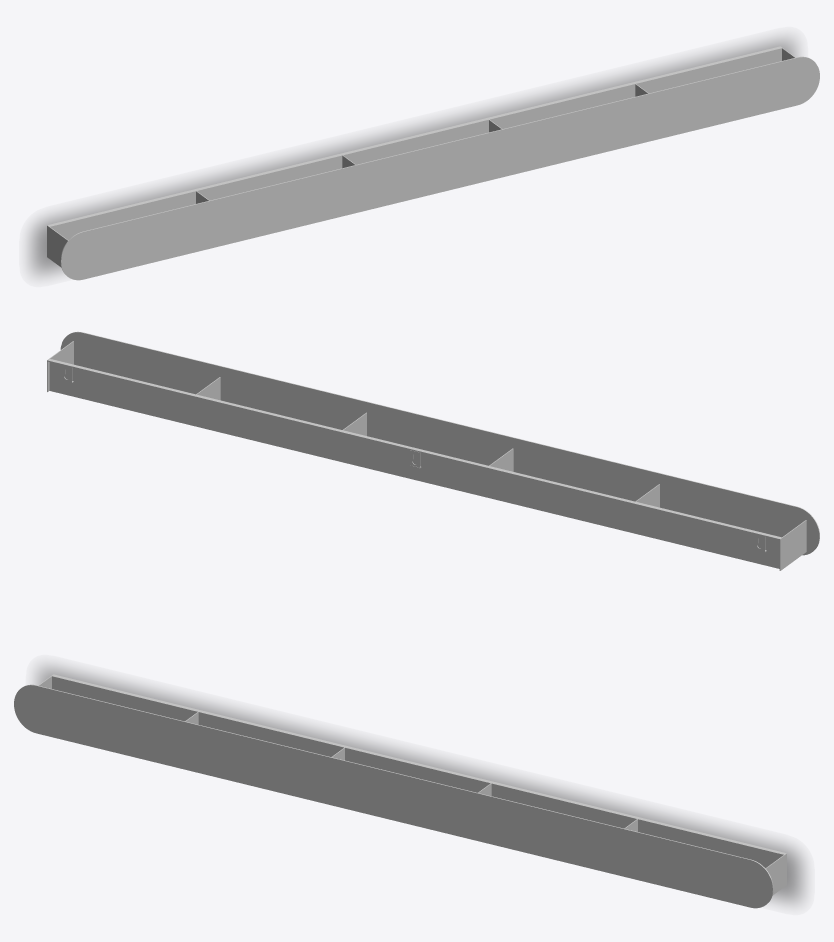
Rendered from round-mono.5c0bfc72b2.ar.glb.
3 views of the same model, one above another, from view 1: azimuth 30°, elevation 25°; view 2: azimuth 150°, elevation 25°; view 3: azimuth 330°, elevation 25° (orthographic).
Visible parts, largest first — view 1: NAUO1, object 2; view 2: NAUO1; view 3: NAUO1, object 2.
Part boxes in pixels (x1,y1,x2,y2): NAUO1: (47,46,819,280); object 2: (29,38,798,275); NAUO1: (47,331,819,570); NAUO1: (14,674,786,908); object 2: (35,666,804,903).
Bounding box in the file's own units: 1.58 × 0.17 × 0.093.
Materials: 2 (1 with a texture image).
